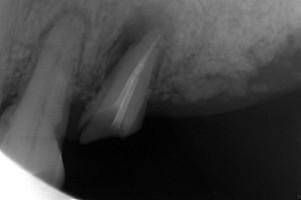Furcation Involvement: (104, 6, 176, 81), (38, 6, 91, 56)
